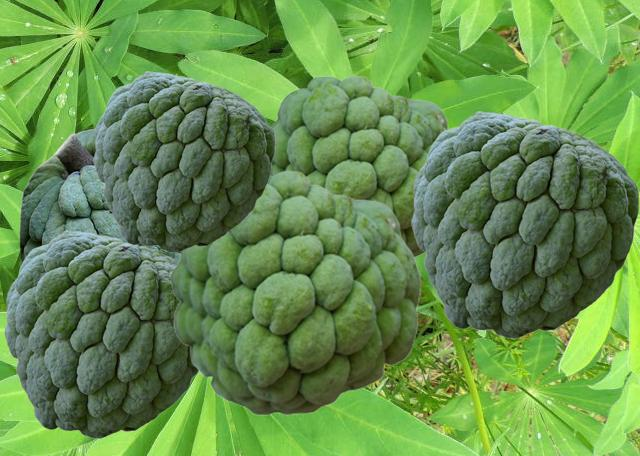atis: (169, 170, 420, 414), (411, 111, 638, 337), (4, 230, 198, 437), (270, 75, 450, 259), (93, 71, 274, 251), (19, 128, 178, 264)
